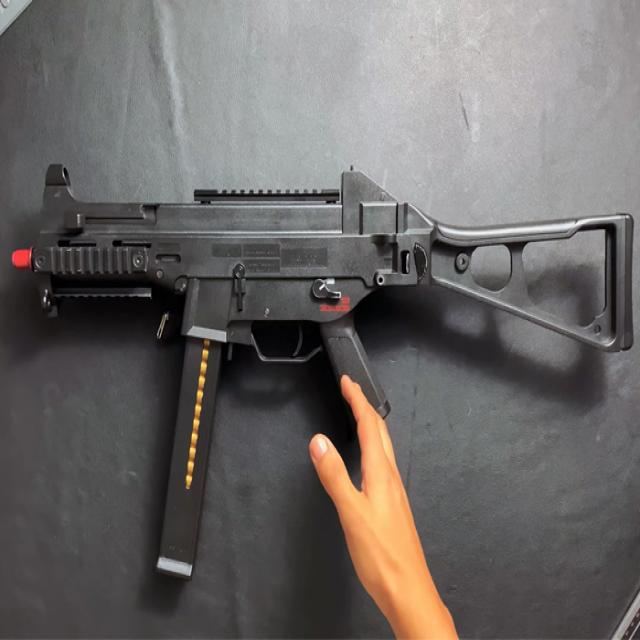SMG: (11, 164, 635, 588)
